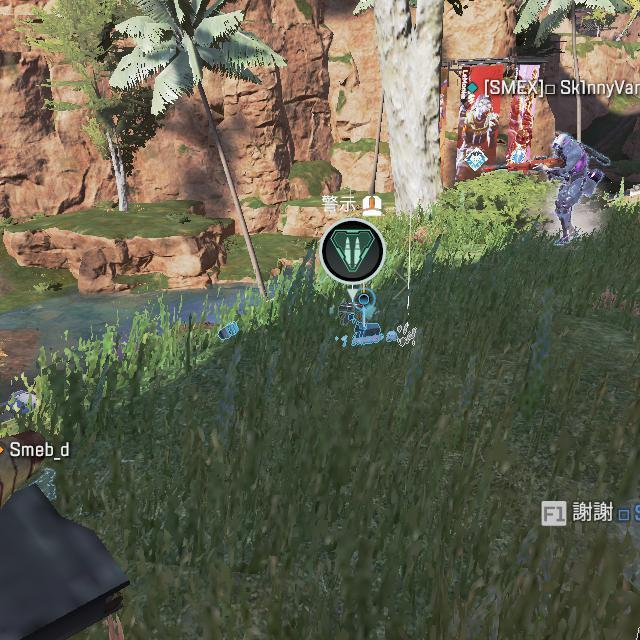avatar: (549, 129, 592, 248)
